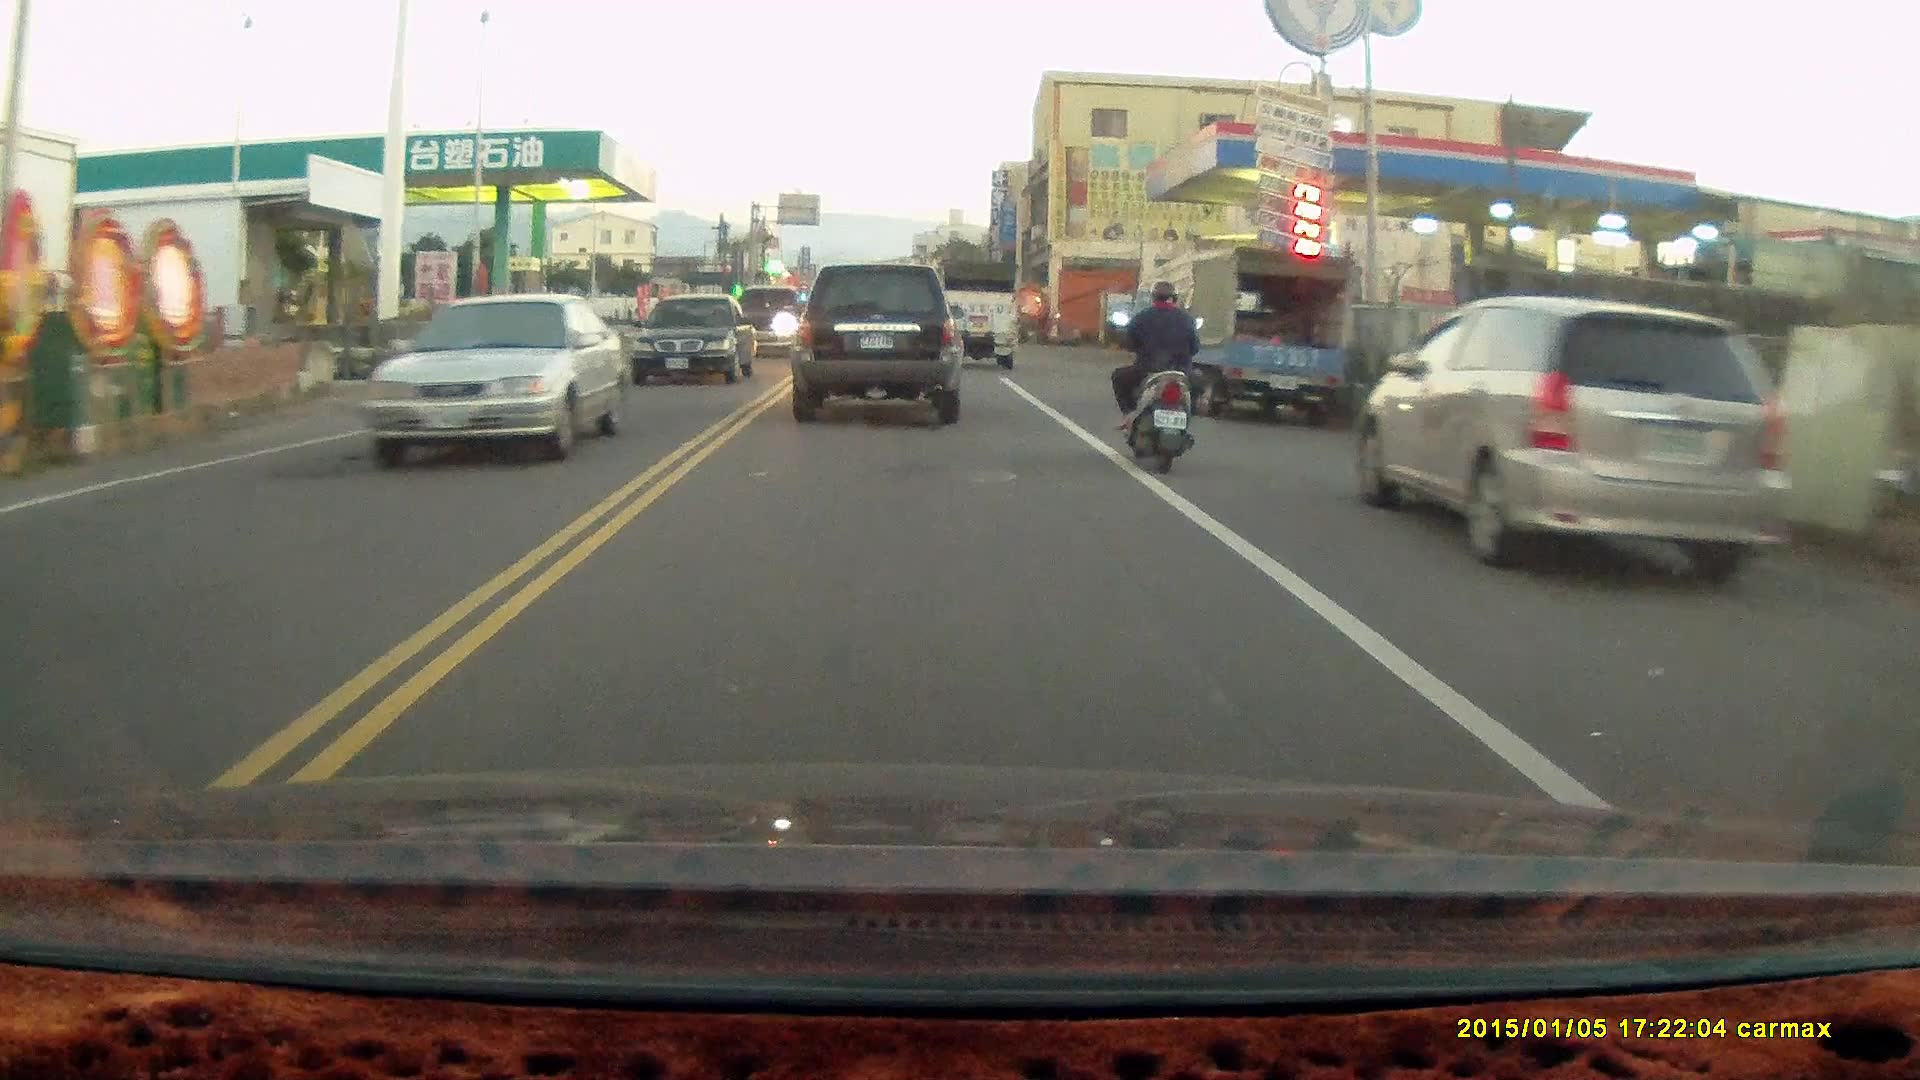rider: (1110, 276, 1210, 471)
vehicle: (1360, 297, 1795, 589), (366, 293, 622, 466), (1166, 249, 1350, 426), (789, 263, 963, 425), (633, 296, 756, 384), (936, 255, 1018, 369)
